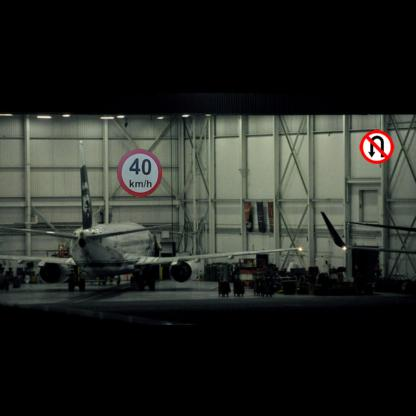R-19: (117, 148, 162, 197)
R-5a: (360, 130, 394, 164)
